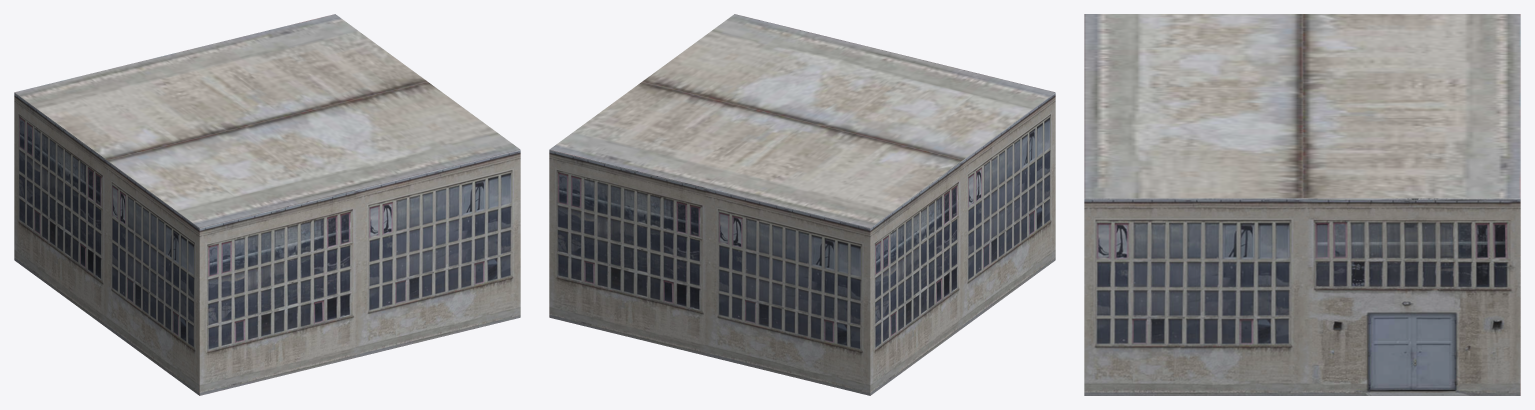
File: Building_A.glb
3 views of the same model, side by side, from view 1: azimuth 30°, elevation 25°; view 2: azimuth 150°, elevation 25°; view 3: azimuth 270°, elevation 25° (orthographic). The views are drawn at different scales.
Parts seen in each view (by area): view 1: Building_A; view 2: Building_A; view 3: Building_A.
Boxes of the visible parts, left/top/right/bottom form: Building_A: left=14, top=14, right=520, bottom=395; Building_A: left=549, top=14, right=1055, bottom=395; Building_A: left=1084, top=14, right=1520, bottom=395.
Bounding box in the file's own units: 12 × 6 × 12.
1 material, 1 textured.
